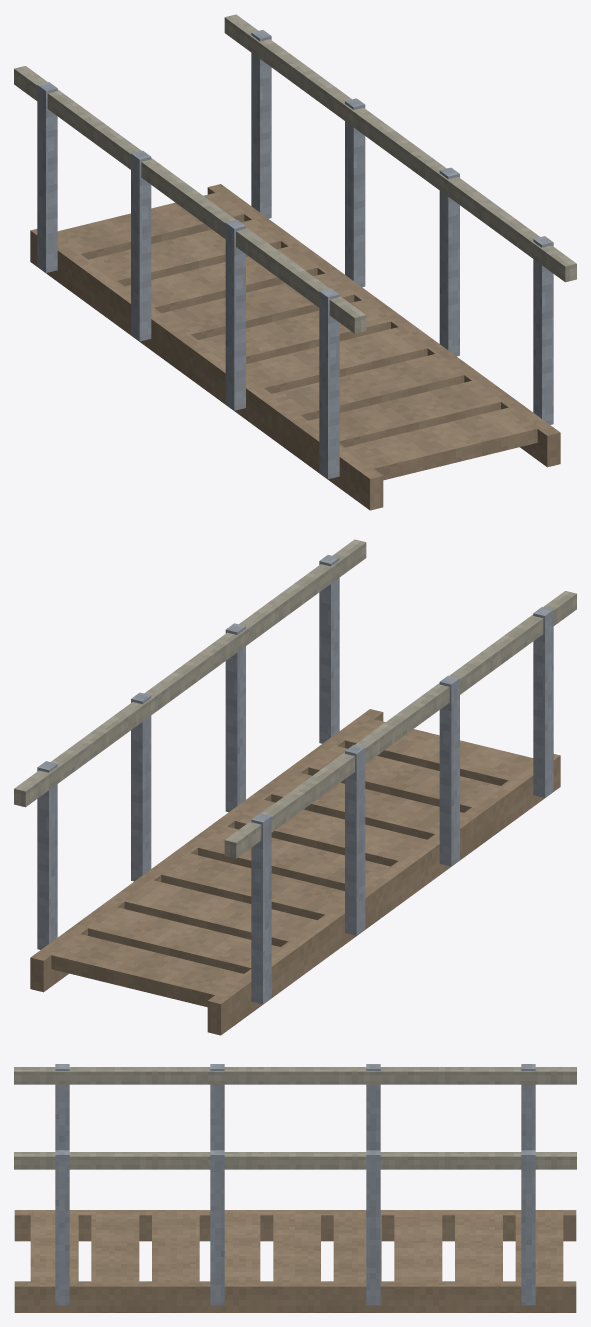
File: level_blockout_cave_plank_rope_bridge.glb
3 views of the same model, one above another, from view 1: azimuth 30°, elevation 25°; view 2: azimuth 150°, elevation 25°; view 3: azimuth 270°, elevation 25° (orthographic). The views are drawn at different scales.
Parts seen in each view (by area): view 1: level_blockout_cave_plank_rope_bridge; view 2: level_blockout_cave_plank_rope_bridge; view 3: level_blockout_cave_plank_rope_bridge.
Part boxes in pixels (bbox=[...]): level_blockout_cave_plank_rope_bridge: bbox=[14, 14, 576, 510]; level_blockout_cave_plank_rope_bridge: bbox=[14, 539, 576, 1035]; level_blockout_cave_plank_rope_bridge: bbox=[14, 1064, 576, 1312].
Size of the model in its own units: 1.35 by 1.14 by 3.53.
3 materials, 3 textured.
